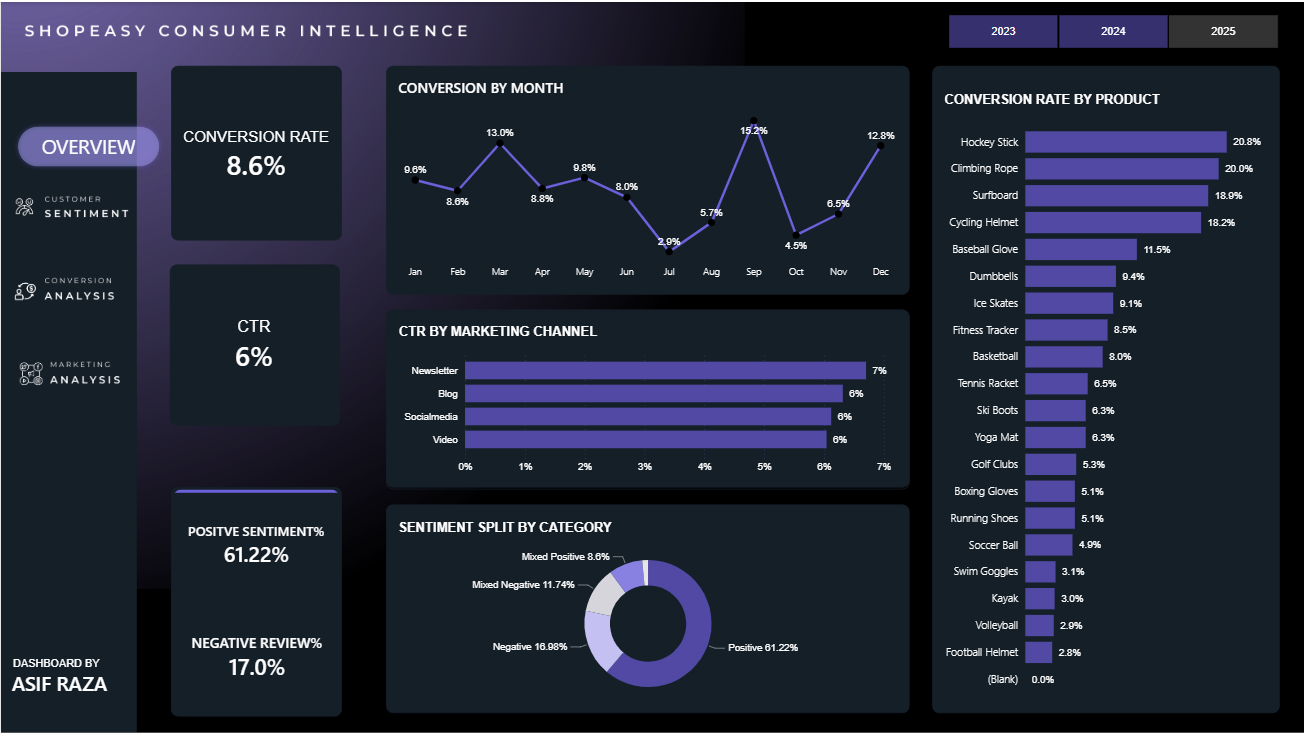

The dashboard page shown, as its layout file describes it:
{"tool":"powerbi","page":{"name":"overview","canvas":[1600,900],"ordinal":0},"visuals":[{"type":"shape","box":[0,159,149.2,49.2],"z":0},{"type":"shape","box":[208.2,78.7,209.8,214.8],"z":1000},{"type":"shape","box":[208.2,595.1,209.8,282],"z":2000},{"type":"shape","box":[1142.6,78.2,426.4,794.5],"z":3000},{"type":"shape","box":[472.4,78.2,642.6,280.7],"z":4000},{"type":"lineChart","title":"CONVERSION BY MONTH","fields":{"Category":["Calendar.MonthNameShort"],"Y":["calculations.Conversion Rate"]},"box":[472.4,78.2,642.6,280.7],"z":5000},{"type":"clusteredBarChart","title":"CONVERSION RATE BY PRODUCT","fields":{"Y":["calculations.Conversion Rate"],"Category":["products.ProductName"]},"box":[1142.6,95.1,426.4,777.6],"z":6000},{"type":"cardVisual","fields":{"Data":["negative_reviews_issues.neagtive review %"]},"box":[208.2,734.4,211.5,137.7],"z":7000},{"type":"shape","box":[472.1,616.4,642.6,255.7],"z":8000},{"type":"donutChart","title":"SENTIMENT SPLIT BY CATEGORY","fields":{"Category":["customer_reviews_sentiment.SentimentCategory"],"Y":["CountNonNull(customer_reviews_sentiment.ReviewID)"]},"box":[472.1,621.3,642.6,255.7],"z":9000},{"type":"cardVisual","fields":{"Data":["calculations.Conversion Rate"]},"box":[211.5,95.1,203.3,186.9],"z":10000},{"type":"cardVisual","fields":{"Data":["calculations.% Positive Sentiment"]},"box":[211.7,598.2,204,136.5],"z":11000},{"type":"shape","box":[207.1,322.1,208.6,197.9],"z":12000},{"type":"shape","box":[472.1,377,642.6,218],"z":13000},{"type":"clusteredBarChart","title":"CTR BY MARKETING CHANNEL","fields":{"Category":["engagement_data_cleaned.ContentType"],"Y":["calculations.CTR"]},"box":[472.4,378.8,642.6,219.3],"z":14000},{"type":"cardVisual","fields":{"Data":["calculations.CTR"]},"box":[205.5,322.1,210.1,197.9],"z":15000},{"type":"slicer","fields":{"Values":["Calendar.Date.Variation.Date Hierarchy.Year"]},"box":[1142.6,13.1,442.6,44.3],"z":16000},{"type":"shape","box":[0,131.9,214.7,90.5],"z":17000},{"type":"actionButton","box":[11.5,223,157.4,59],"z":18000},{"type":"actionButton","box":[11.5,329.5,157.4,59],"z":19000},{"type":"actionButton","box":[11.5,421.3,157.4,59],"z":20000},{"type":"pageNavigator","box":[0,208.2,183.6,303.3],"z":21000},{"type":"textbox","box":[0,803.7,184.1,56.7],"z":22000}]}

Visuals, with their boxes in screenshot pixels (x1, y1, x2, y2), scaled from the page's 1600x900 canvas onto the 1304x733 screenshot:
shape: (left=0, top=129, right=122, bottom=170)
shape: (left=170, top=64, right=341, bottom=239)
shape: (left=170, top=485, right=341, bottom=714)
shape: (left=931, top=64, right=1279, bottom=711)
shape: (left=385, top=64, right=909, bottom=292)
"CONVERSION BY MONTH" lineChart: (left=385, top=64, right=909, bottom=292)
"CONVERSION RATE BY PRODUCT" clusteredBarChart: (left=931, top=77, right=1279, bottom=711)
cardVisual - negative_reviews_issues.neagtive review %: (left=170, top=598, right=342, bottom=710)
shape: (left=385, top=502, right=908, bottom=710)
"SENTIMENT SPLIT BY CATEGORY" donutChart: (left=385, top=506, right=908, bottom=714)
cardVisual - calculations.Conversion Rate: (left=172, top=77, right=338, bottom=230)
cardVisual - calculations.% Positive Sentiment: (left=173, top=487, right=339, bottom=598)
shape: (left=169, top=262, right=339, bottom=424)
shape: (left=385, top=307, right=908, bottom=485)
"CTR BY MARKETING CHANNEL" clusteredBarChart: (left=385, top=309, right=909, bottom=487)
cardVisual - calculations.CTR: (left=167, top=262, right=339, bottom=424)
slicer - Calendar.Date.Variation.Date Hierarchy.Year: (left=931, top=11, right=1292, bottom=47)
shape: (left=0, top=107, right=175, bottom=181)
actionButton: (left=9, top=182, right=138, bottom=230)
actionButton: (left=9, top=268, right=138, bottom=316)
actionButton: (left=9, top=343, right=138, bottom=391)
pageNavigator: (left=0, top=170, right=150, bottom=417)
textbox: (left=0, top=655, right=150, bottom=701)
